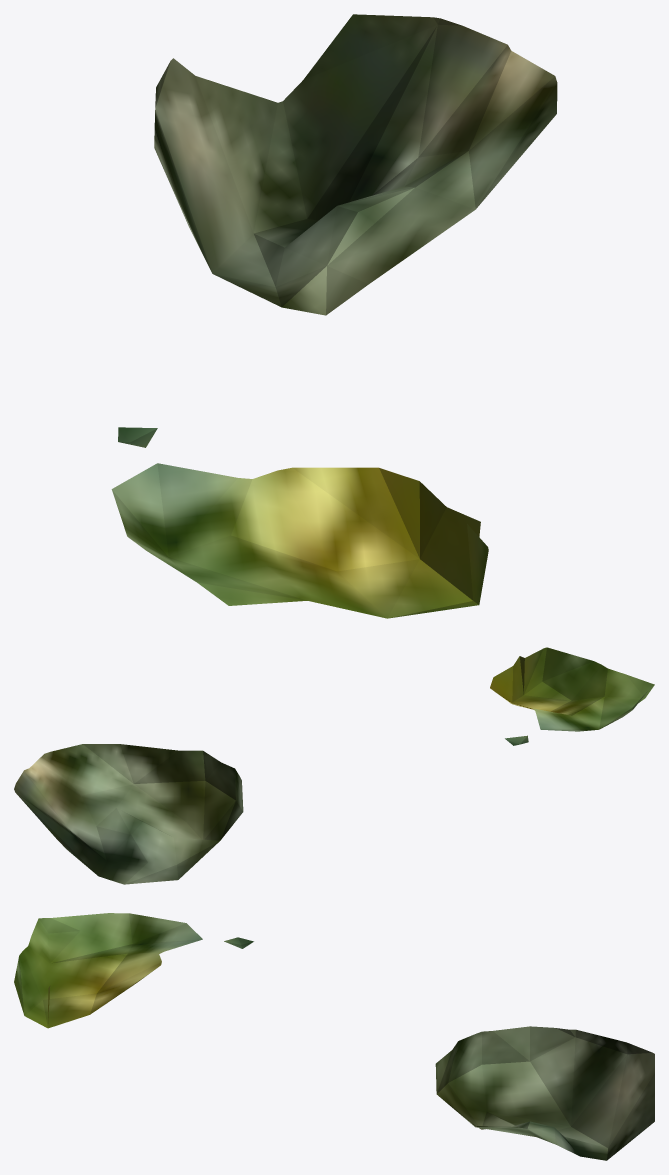
3 renders of one model, top to bottom at view 1: azimuth 30°, elevation 25°; view 2: azimuth 150°, elevation 25°; view 3: azimuth 270°, elevation 25°, orthographic. The views are drawn at different scales.
Size of the model in its own units: 0.4506 by 0.0833 by 0.5738.
1 material, 1 textured.
